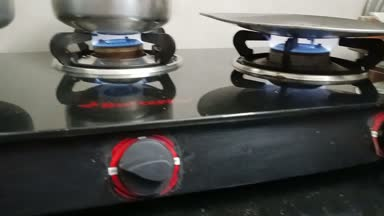flame_gas_on: (67, 24, 182, 195), (248, 27, 363, 82)
